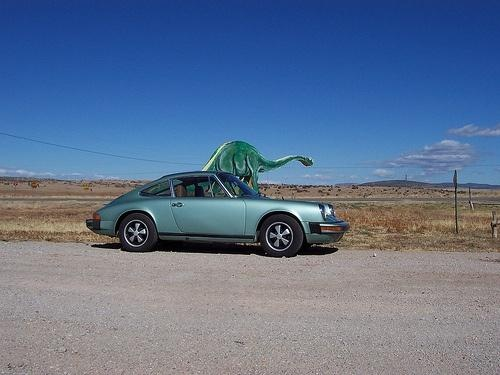car: (86, 170, 353, 259)
